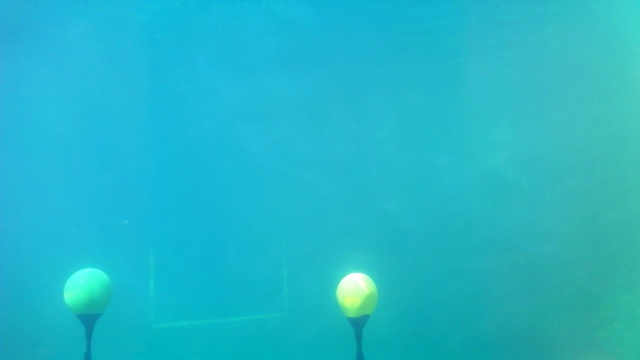buoy_green: (59, 263, 116, 330)
channel: (148, 255, 290, 325)
